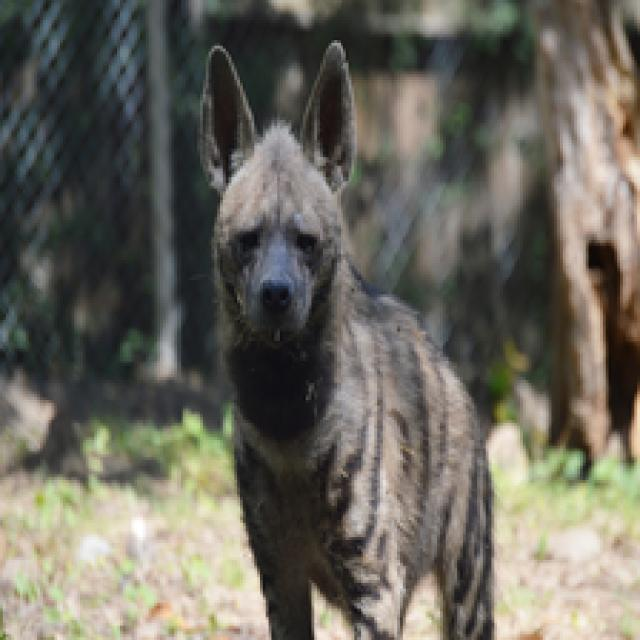hyena: (158, 36, 514, 620)
